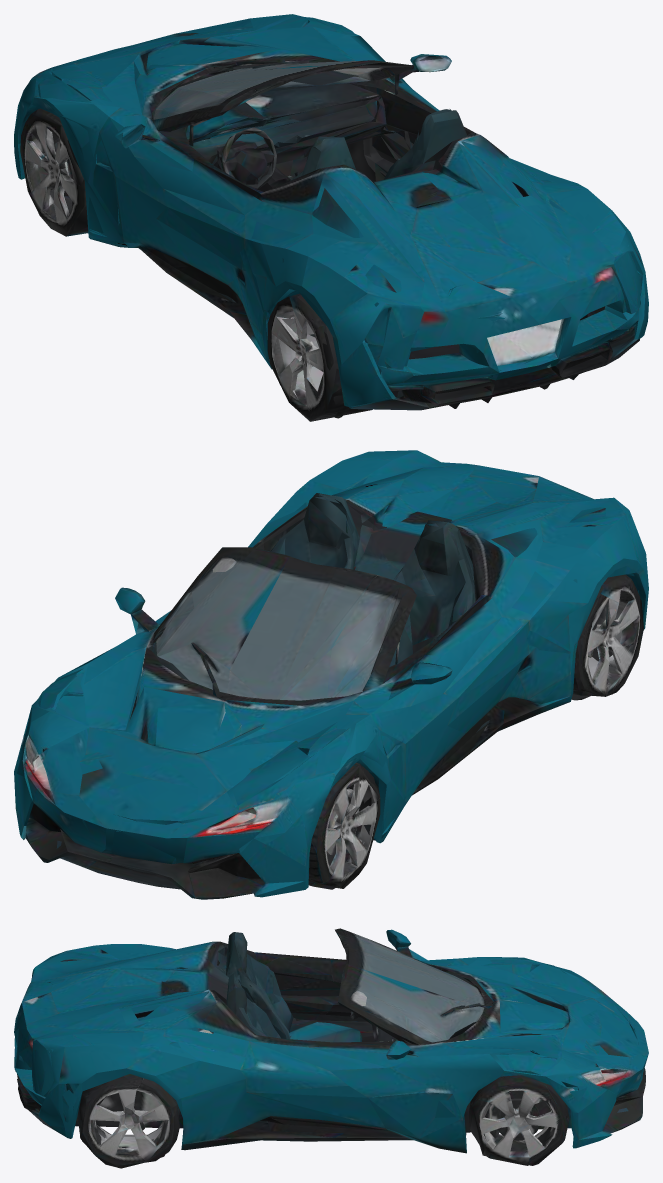
The model's file is teleopVehRoadster.35a1e8b7.glb.
3 views of the same model, one above another, from view 1: azimuth 30°, elevation 25°; view 2: azimuth 150°, elevation 25°; view 3: azimuth 270°, elevation 25° (orthographic). The views are drawn at different scales.
Parts seen in each view (by area): view 1: output_unwrapped; view 2: output_unwrapped; view 3: output_unwrapped.
Part boxes in pixels (x1,y1,x2,y2): output_unwrapped: [14, 14, 648, 421]; output_unwrapped: [14, 450, 648, 899]; output_unwrapped: [14, 928, 648, 1168].
Bounding box in the file's own units: 0.8736 × 0.5225 × 1.9.
1 material, 1 textured.
